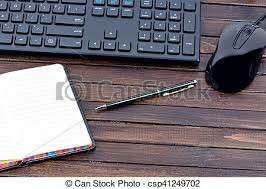pen: (90, 81, 198, 112)
